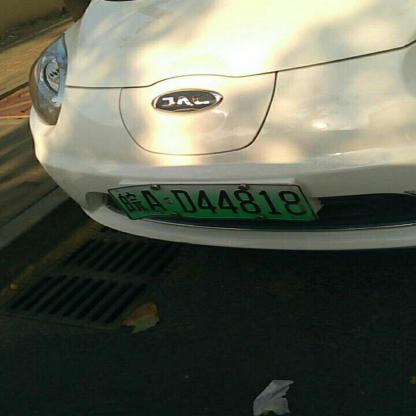lp: (104, 184, 317, 221)
